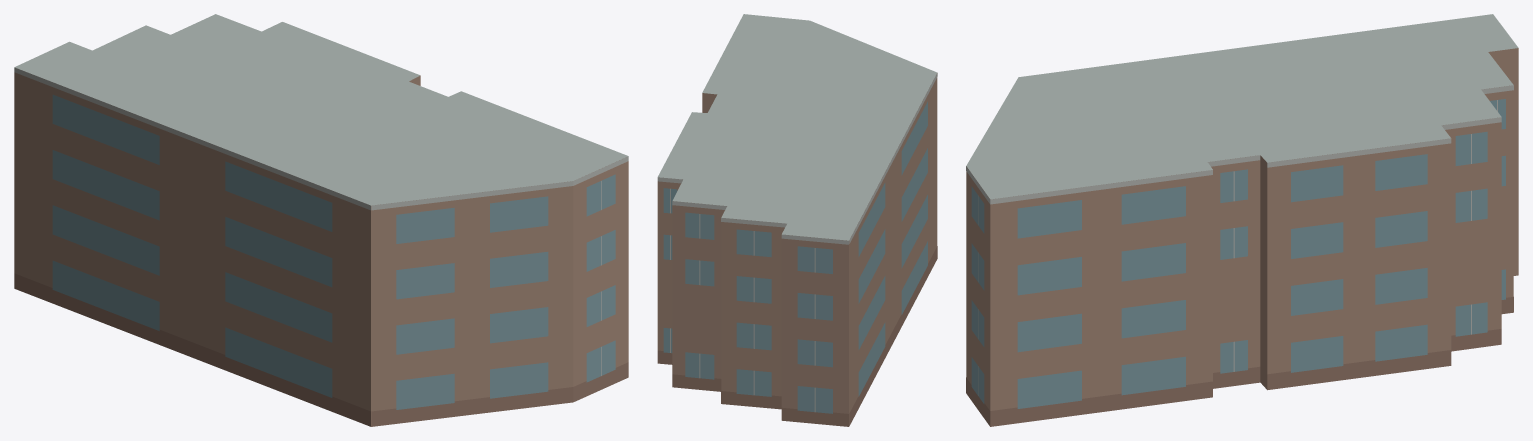
File: survey-upis-32684284.glb
3 views of the same model, side by side, from view 1: azimuth 30°, elevation 25°; view 2: azimuth 150°, elevation 25°; view 3: azimuth 270°, elevation 25° (orthographic). The views are drawn at different scales.
Parts seen in each view (by area): view 1: survey-upis-32684284.tmp; view 2: survey-upis-32684284.tmp; view 3: survey-upis-32684284.tmp.
Boxes of the visible parts, x1,y1,x2,y2 form: survey-upis-32684284.tmp: (14,14,628,426); survey-upis-32684284.tmp: (657,14,937,426); survey-upis-32684284.tmp: (966,14,1518,426).
Bounding box in the file's own units: 19.25 × 11 × 24.23.
